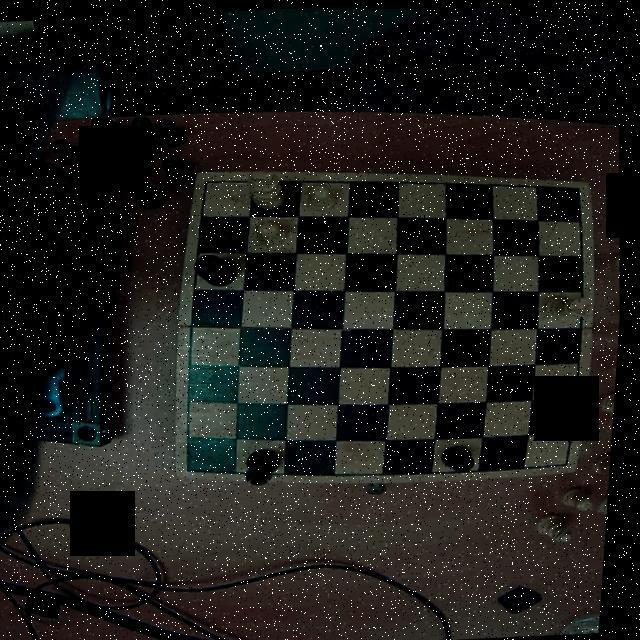chess-table-corners: (182, 453, 210, 478), (195, 172, 220, 196), (562, 177, 592, 196), (560, 447, 584, 467)
